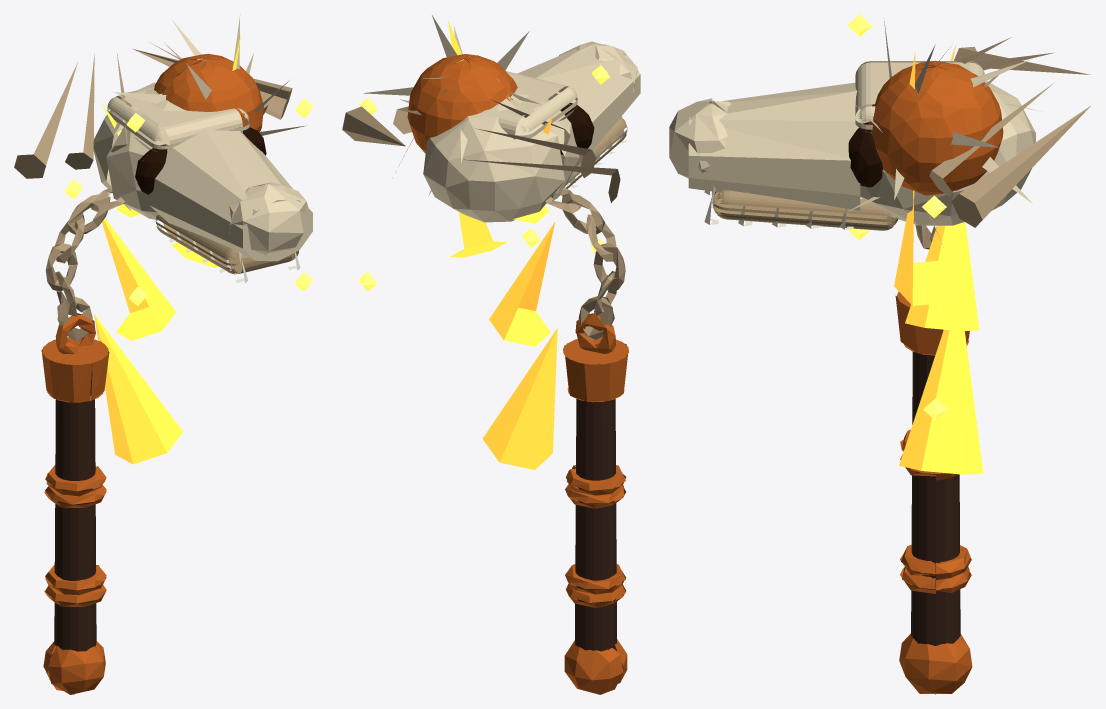
File: dragontail_flail.glb
3 renders of one model, left to right at view 1: azimuth 30°, elevation 25°; view 2: azimuth 150°, elevation 25°; view 3: azimuth 270°, elevation 25°, orthographic. The views are drawn at different scales.
Visible parts, largest first — view 1: dragontail_flail; view 2: dragontail_flail; view 3: dragontail_flail.
Boxes of the visible parts, x1,y1,x2,y2 form: dragontail_flail: (14, 14, 313, 694); dragontail_flail: (342, 15, 640, 694); dragontail_flail: (669, 14, 1090, 694).
Size of the model in its own units: 0.5839 by 1.28 by 0.6579.
